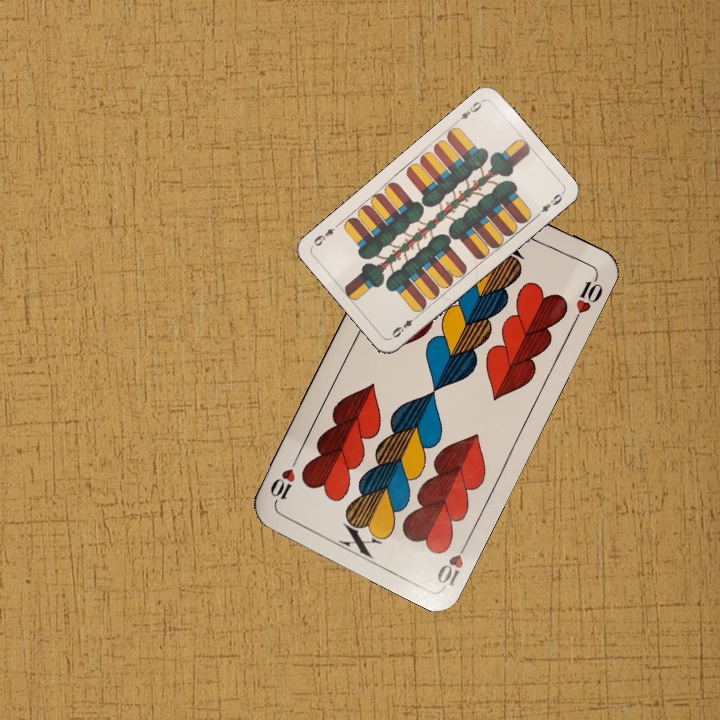E9: (387, 311, 421, 341), (452, 96, 486, 126)
H10: (433, 534, 473, 590)
